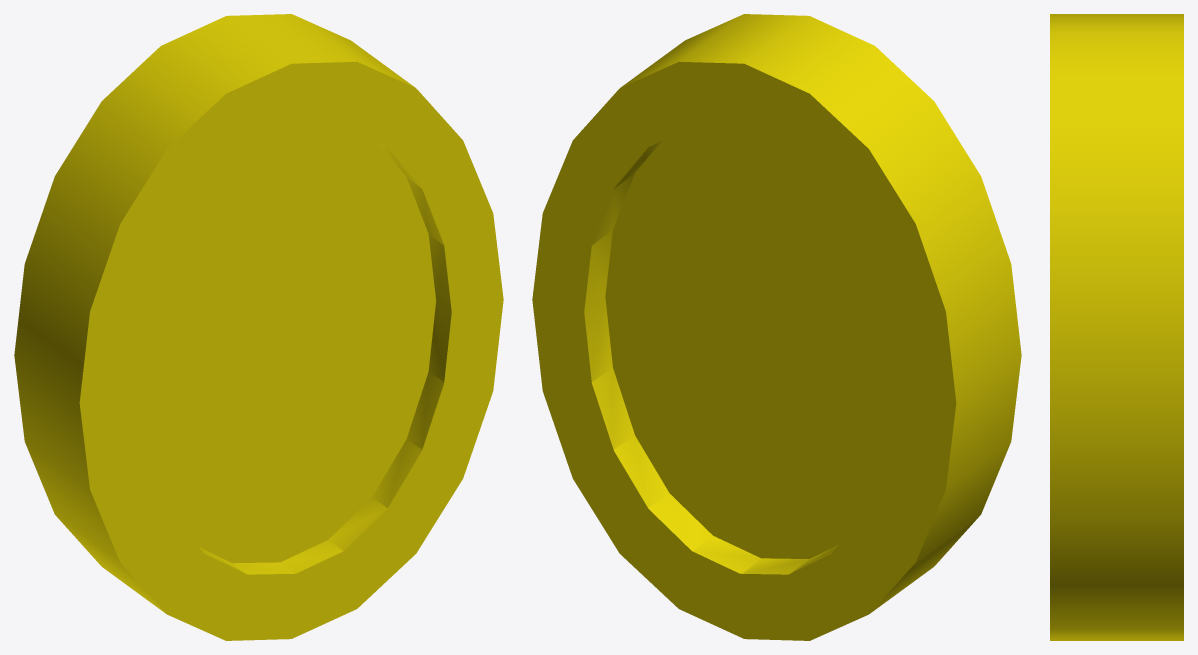
Rendered from coin.fbx.
The picture shows the model from 3 angles, left to right: view 1: azimuth 30°, elevation 25°; view 2: azimuth 150°, elevation 25°; view 3: azimuth 270°, elevation 25°; orthographic projection. The views are drawn at different scales.
Visible parts, largest first — view 1: pCylinder4; view 2: pCylinder4; view 3: pCylinder4.
Part boxes in pixels (bbox=[...]): pCylinder4: bbox=[14, 14, 503, 640]; pCylinder4: bbox=[532, 14, 1021, 640]; pCylinder4: bbox=[1050, 14, 1183, 640].
Bounding box in the file's own units: 0.7497 × 0.9721 × 0.2.
